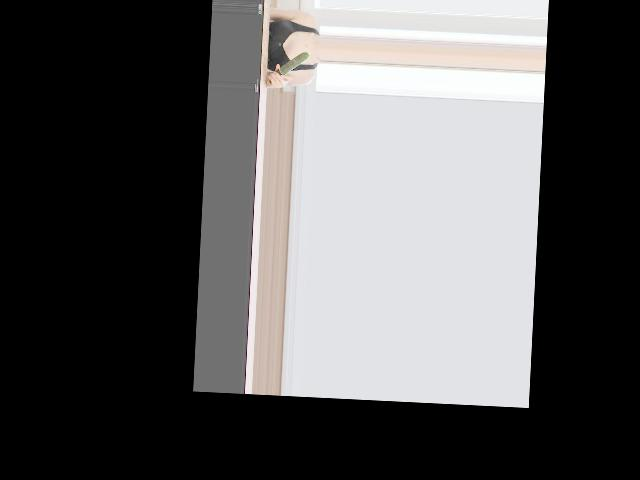cucumber: (268, 50, 310, 86)
